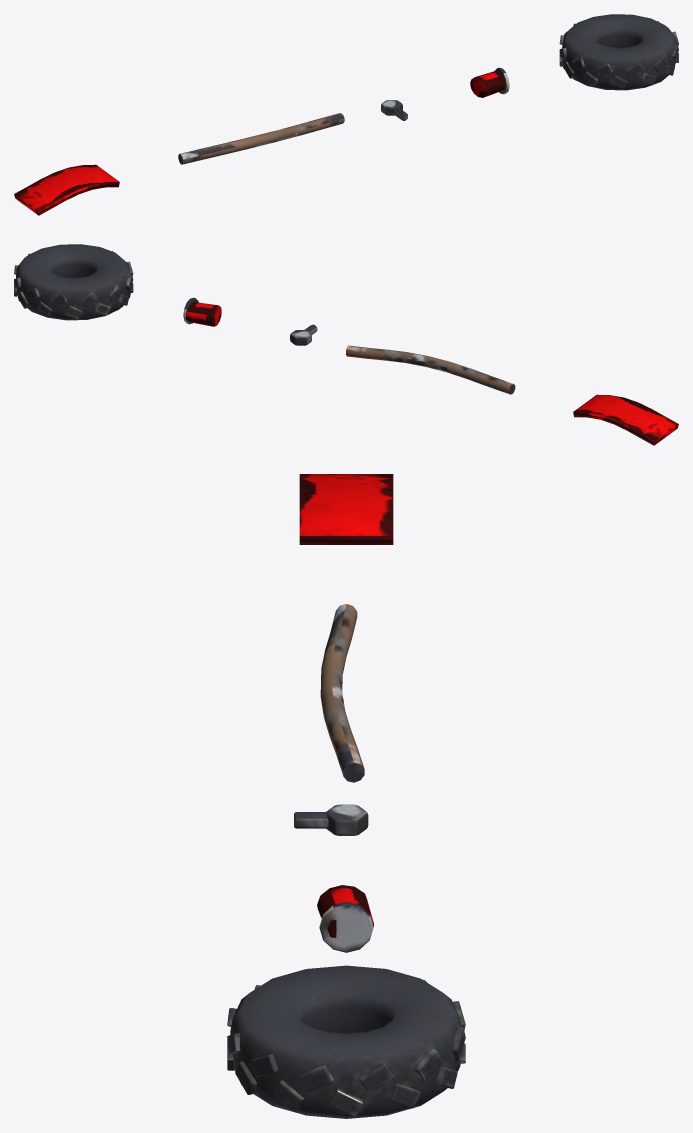
File: bits.glb
3 views of the same model, one above another, from view 1: azimuth 30°, elevation 25°; view 2: azimuth 150°, elevation 25°; view 3: azimuth 270°, elevation 25° (orthographic). The views are drawn at different scales.
Visible parts, largest first — view 1: small_tyre, scrap_a, scrap_b, can, nut; view 2: small_tyre, scrap_a, scrap_b, can, nut; view 3: small_tyre, scrap_a, scrap_b, can, nut.
Boxes of the visible parts, <box> form: small_tyre: <box>559,14,678,90</box>; scrap_a: <box>14,164,119,215</box>; scrap_b: <box>178,113,344,164</box>; can: <box>470,67,509,97</box>; nut: <box>381,100,407,120</box>; small_tyre: <box>14,244,133,320</box>; scrap_a: <box>573,394,678,445</box>; scrap_b: <box>346,345,515,394</box>; can: <box>183,297,221,326</box>; nut: <box>290,324,317,345</box>; small_tyre: <box>227,965,465,1118</box>; scrap_a: <box>299,474,393,544</box>; scrap_b: <box>320,604,364,782</box>; can: <box>317,885,373,952</box>; nut: <box>294,804,368,835</box>.
Bounding box in the file's own units: 3.97 × 0.196 × 0.636.
Materials: 1 (1 with a texture image).
